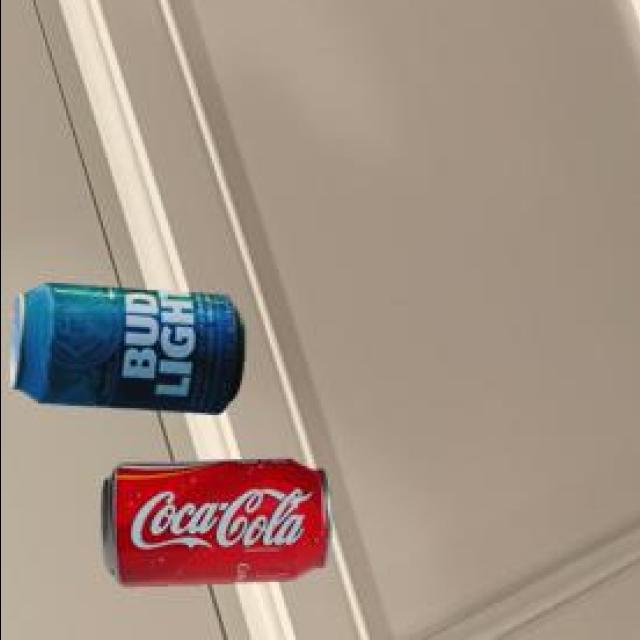logam: (6, 286, 240, 416), (99, 463, 326, 590)
